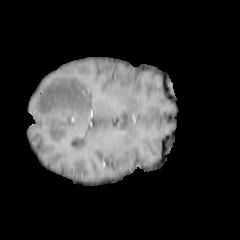glioma: (32, 76, 93, 139)
